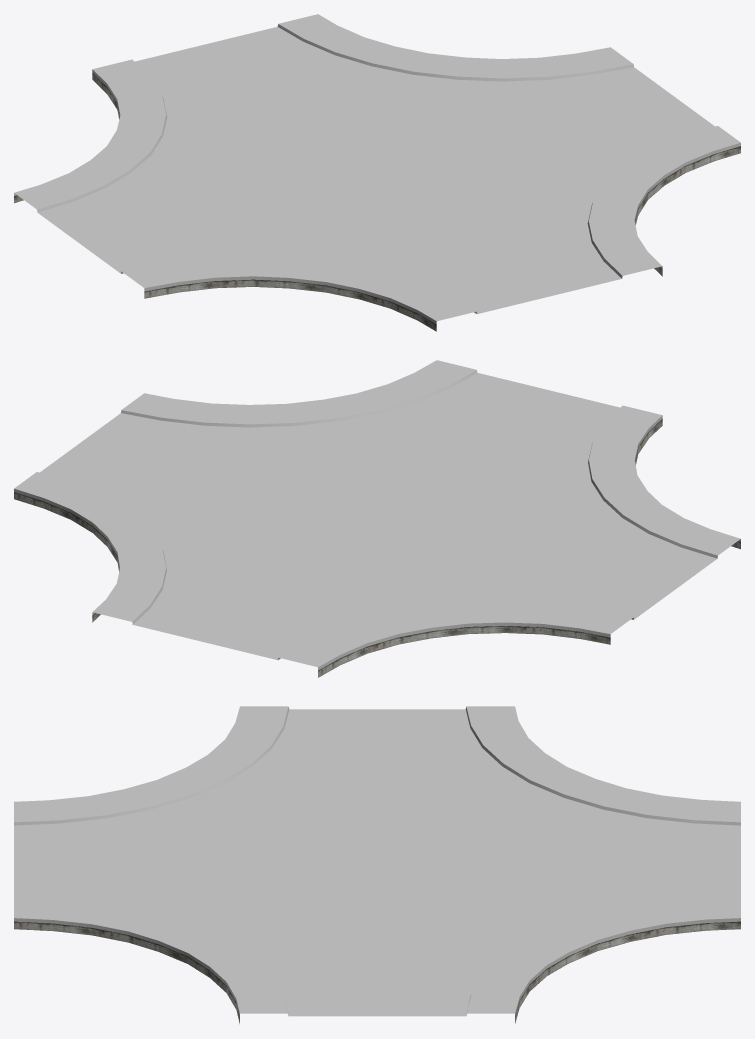
File: Road_2_line_Crossroad.FBX
3 renders of one model, top to bottom at view 1: azimuth 30°, elevation 25°; view 2: azimuth 150°, elevation 25°; view 3: azimuth 270°, elevation 25°, orthographic. The views are drawn at different scales.
Parts seen in each view (by area): view 1: Road_2_line_Crossroad; view 2: Road_2_line_Crossroad; view 3: Road_2_line_Crossroad.
Boxes of the visible parts, x1,y1,x2,y2 form: Road_2_line_Crossroad: (14,14,740,331); Road_2_line_Crossroad: (14,360,740,677); Road_2_line_Crossroad: (14,706,740,1023).
Size of the model in its own units: 2705 by 45.7 by 2705.
